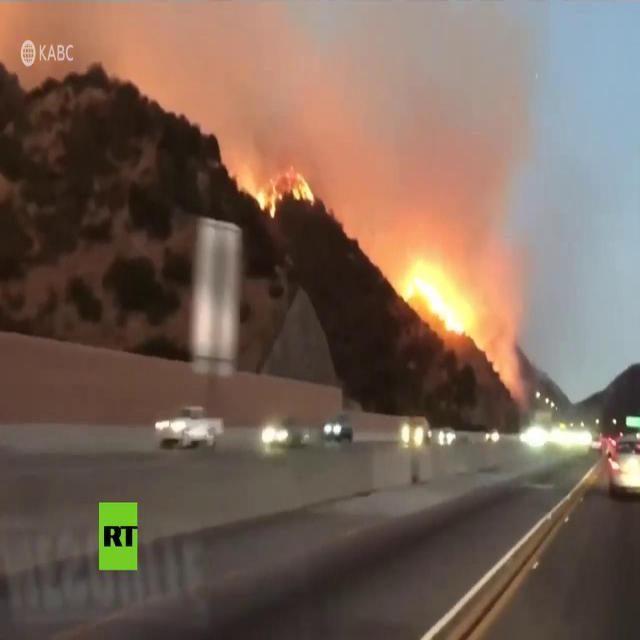Fire: (400, 261, 468, 336), (254, 178, 284, 218), (289, 168, 315, 203)
